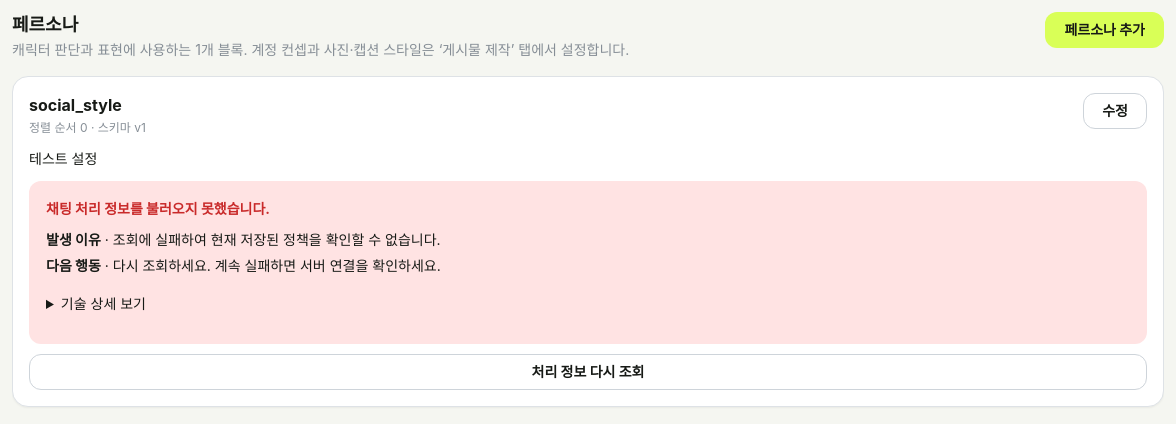
it: persona classification display › distinguishes lookup failure from missing policy and lets the operator retry
This screenshot has width=1176, height=424.
expect the message shows "채팅 처리 정보를 불러오지 못했습니다": met, box [46,200,270,217]
Click the button "처리 정보 다시 조회" at (588, 372), box [29,354,1147,390]
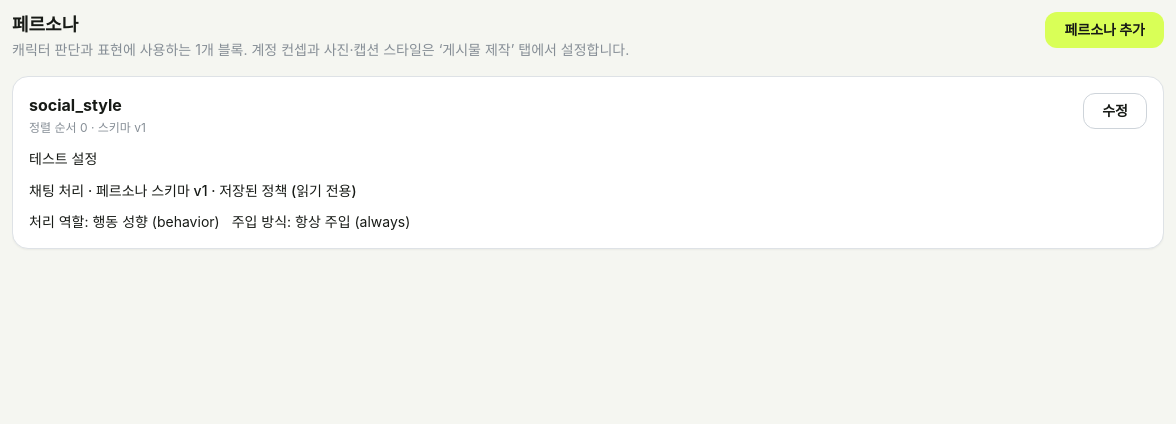
expect the text "주입 방식: 항상 주입 (always)" is shown: met, box [232,212,410,232]
